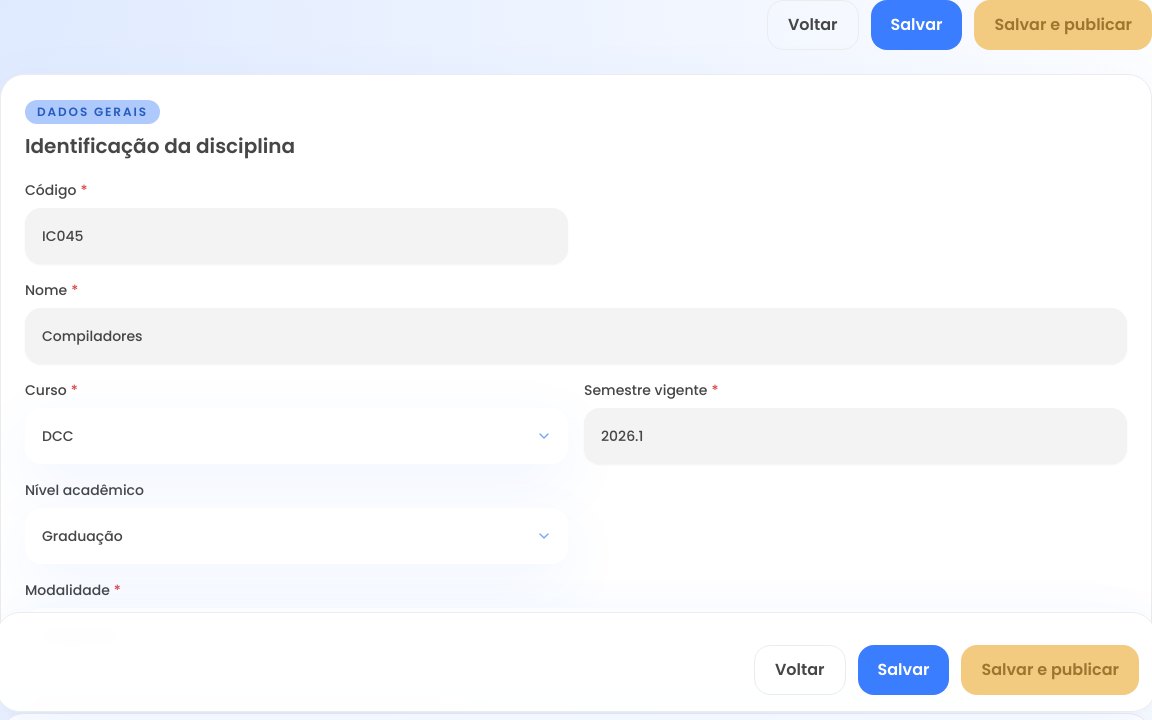
Test: DisciplineEditorForm publish validation › identifica visualmente os campos obrigatórios e valida conteúdo programático antes de publicar
Click the 2nd button "Salvar e publicar" at coordinates (1050, 670), box x1=962 y1=645 x2=1139 y2=695
(page scrolled)
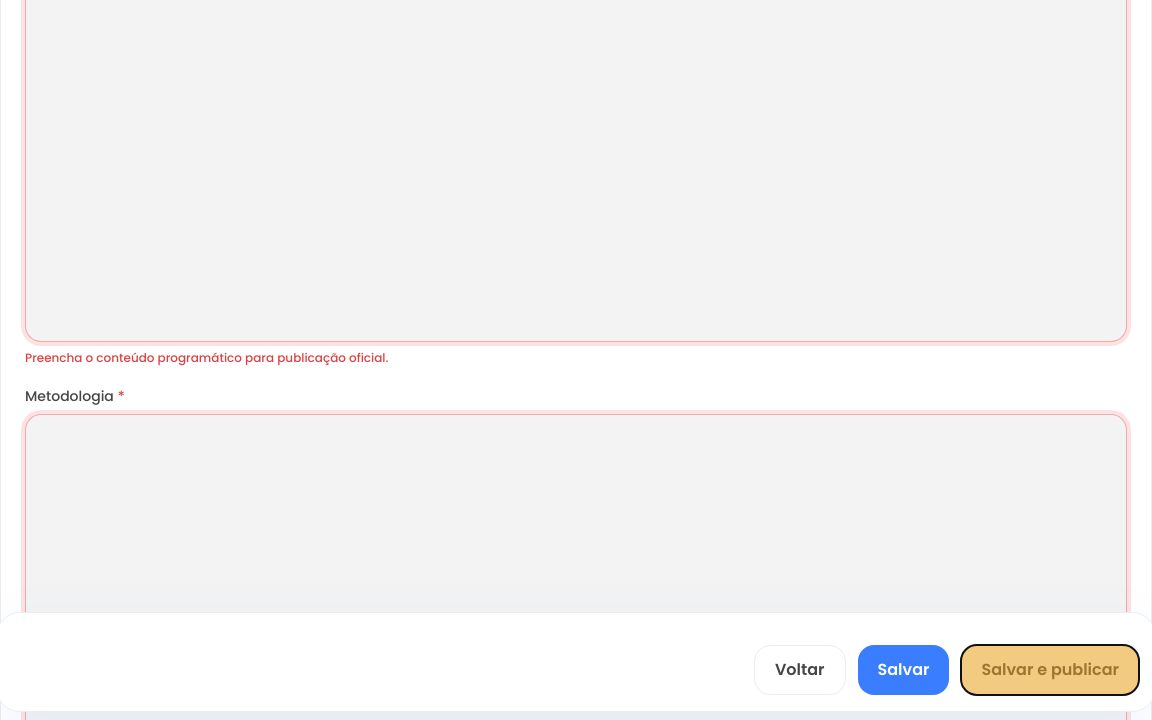
Expected: the text "Preencha o conteúdo programático para publicação oficial." is shown, x1=25 y1=349 x2=388 y2=366
